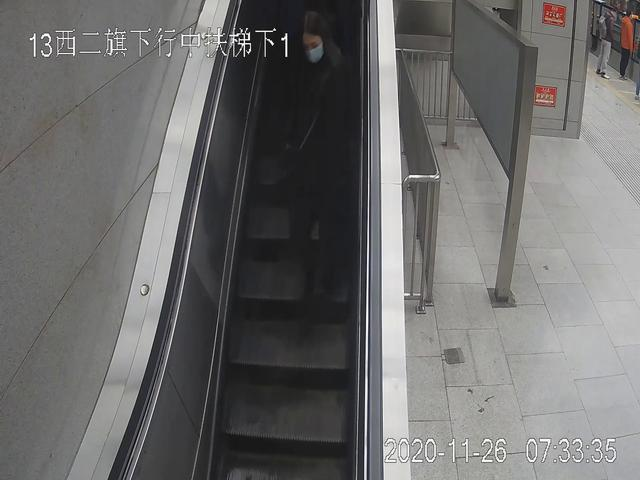person: (279, 13, 356, 301), (595, 8, 616, 78), (619, 11, 634, 78)
